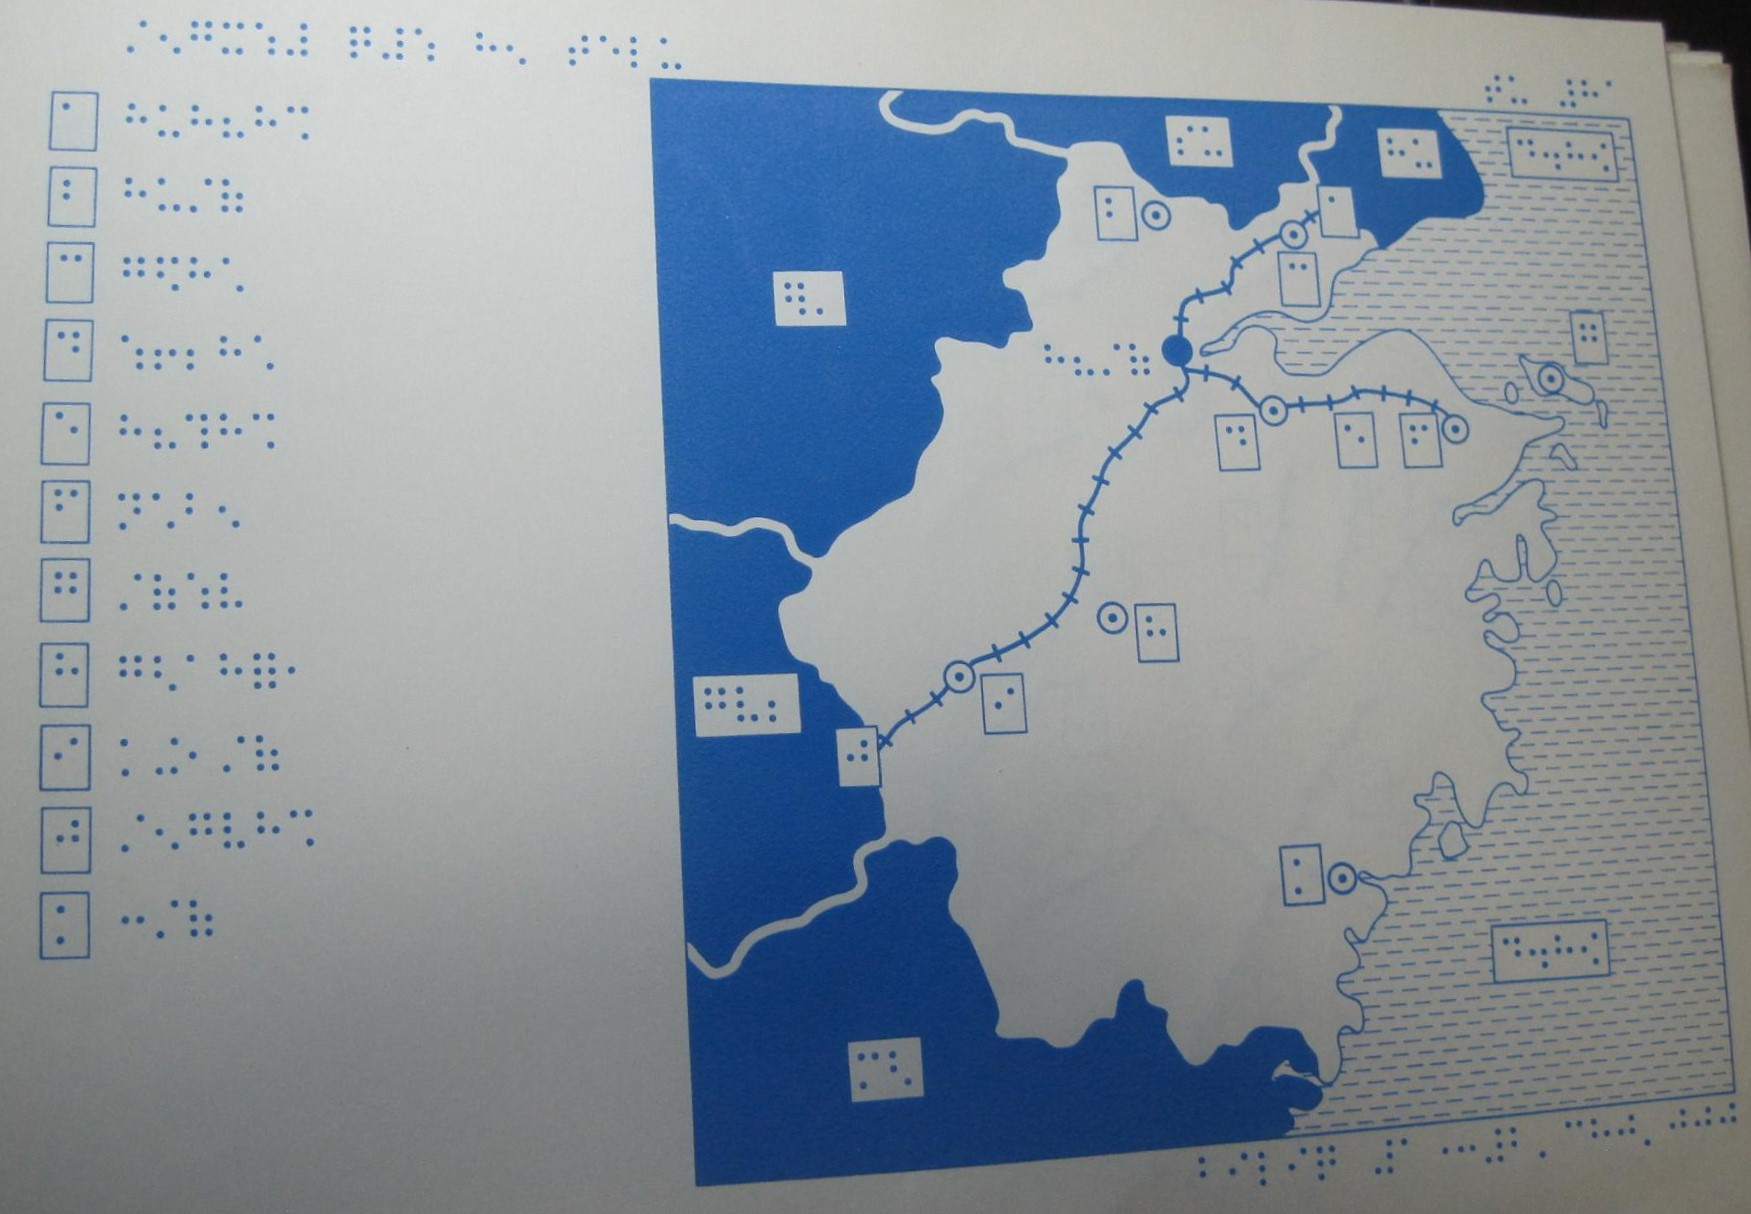Braille: (885, 1045, 917, 1092), (53, 903, 85, 948), (153, 809, 184, 855), (118, 736, 150, 779), (118, 811, 148, 856), (185, 735, 214, 780), (51, 486, 80, 531), (854, 1050, 883, 1096), (114, 571, 145, 614), (153, 896, 181, 942), (287, 807, 317, 851), (114, 490, 144, 534), (149, 489, 178, 532), (250, 650, 279, 694), (766, 682, 796, 725), (254, 729, 281, 777), (220, 732, 247, 777), (254, 808, 283, 851), (188, 896, 214, 942), (153, 732, 180, 779), (188, 811, 216, 855), (118, 899, 146, 942), (184, 490, 212, 534), (184, 651, 212, 695), (218, 650, 246, 694), (55, 816, 82, 860), (150, 571, 180, 612), (52, 732, 79, 777), (220, 100, 247, 142), (118, 331, 146, 374), (250, 410, 278, 453), (218, 570, 246, 612), (184, 570, 212, 612), (812, 277, 840, 319), (844, 735, 872, 777), (221, 811, 247, 855), (287, 650, 314, 694), (57, 252, 86, 292), (53, 650, 82, 690), (152, 411, 180, 453), (184, 411, 212, 453), (217, 411, 245, 453), (152, 654, 180, 695), (154, 253, 181, 296), (220, 256, 246, 298), (217, 331, 243, 374), (156, 176, 184, 216), (55, 327, 82, 367), (251, 331, 277, 375), (734, 682, 760, 725), (157, 100, 184, 141), (152, 331, 178, 373), (185, 331, 212, 373), (217, 491, 243, 532), (61, 176, 88, 217), (782, 278, 809, 319), (117, 652, 145, 691), (55, 409, 80, 451), (657, 35, 684, 75), (283, 19, 310, 59), (251, 102, 278, 142), (60, 99, 86, 138), (222, 17, 247, 59), (118, 411, 144, 453), (53, 568, 79, 610), (188, 176, 214, 214), (347, 23, 373, 63), (122, 173, 148, 213), (220, 176, 245, 216), (703, 684, 728, 724), (125, 99, 149, 140), (1398, 1135, 1422, 1177), (597, 32, 623, 71), (628, 33, 653, 72), (412, 27, 438, 65), (381, 24, 406, 63), (122, 253, 148, 292), (1456, 1127, 1477, 1173), (189, 19, 213, 59), (122, 19, 149, 55), (286, 102, 310, 142), (1287, 1143, 1311, 1183), (1315, 1143, 1339, 1183), (565, 32, 591, 69), (158, 19, 184, 56), (189, 101, 214, 138), (474, 28, 498, 67), (253, 20, 277, 59), (1255, 1150, 1279, 1189), (993, 684, 1017, 723), (1373, 1135, 1394, 1178), (506, 28, 528, 68), (1429, 1131, 1452, 1171), (1589, 1115, 1611, 1155), (1293, 857, 1316, 897), (1144, 614, 1168, 651), (189, 254, 212, 293), (1527, 932, 1550, 970), (1508, 1125, 1530, 1163), (1128, 342, 1152, 378), (1617, 1112, 1638, 1151), (1227, 1151, 1251, 1186), (1484, 1125, 1504, 1166), (1537, 1123, 1559, 1159), (1201, 122, 1224, 158), (1043, 342, 1066, 378), (1225, 423, 1248, 459), (1196, 1154, 1220, 1187), (1343, 422, 1366, 455), (1072, 342, 1094, 379), (1104, 194, 1127, 229), (1287, 261, 1309, 296), (1563, 1119, 1583, 1158), (1579, 930, 1601, 966), (1500, 936, 1522, 969), (1327, 194, 1349, 228), (1719, 1098, 1739, 1135), (1642, 1108, 1661, 1147), (1553, 934, 1575, 966), (1692, 1104, 1712, 1139), (1508, 73, 1529, 106), (1557, 76, 1578, 109), (1590, 141, 1611, 174), (1412, 137, 1433, 170), (1408, 423, 1429, 457), (1103, 341, 1122, 378), (1175, 122, 1195, 157), (1542, 138, 1562, 172), (1386, 136, 1406, 169), (1579, 79, 1601, 109), (1563, 140, 1585, 170), (1484, 72, 1502, 105), (1605, 79, 1623, 110), (1669, 1108, 1687, 1139), (1515, 137, 1535, 166), (1579, 323, 1599, 351)
